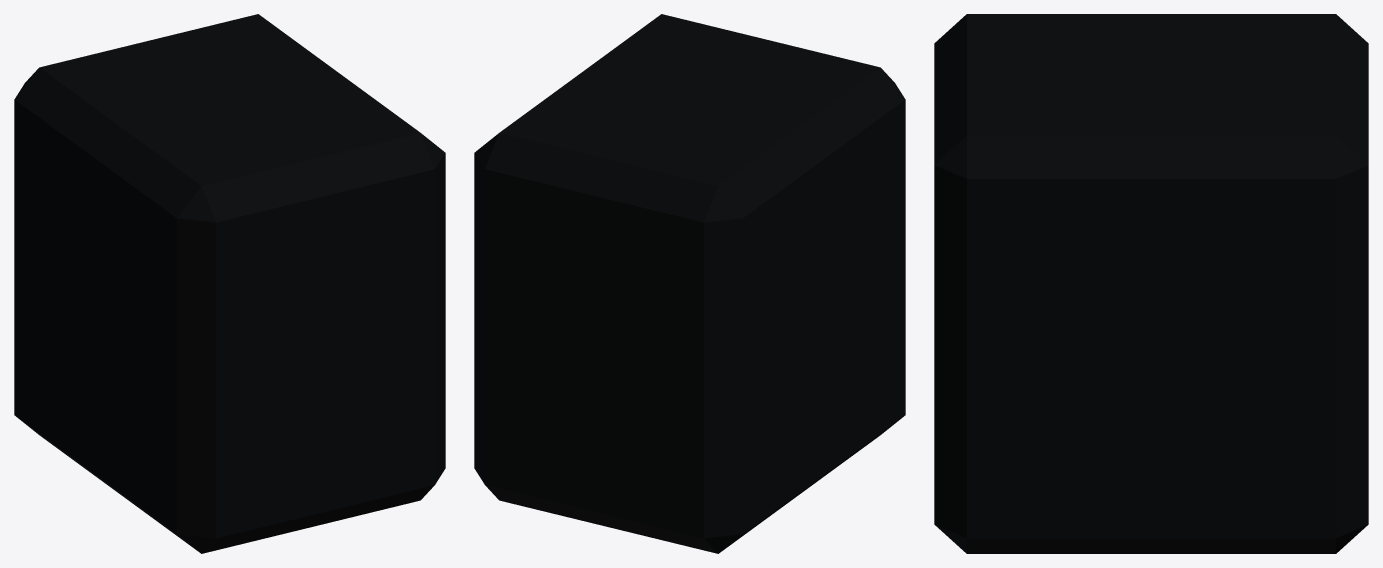
File: Minigun762__Yaw.obj
The picture shows the model from 3 angles, left to right: view 1: azimuth 30°, elevation 25°; view 2: azimuth 150°, elevation 25°; view 3: azimuth 270°, elevation 25°; orthographic projection. The views are drawn at different scales.
Parts seen in each view (by area): view 1: Mount_bearing_bridge; view 2: Mount_bearing_bridge; view 3: Mount_bearing_bridge.
Boxes of the visible parts, bbox=[...] form: Mount_bearing_bridge: bbox=[14, 14, 445, 553]; Mount_bearing_bridge: bbox=[474, 14, 905, 553]; Mount_bearing_bridge: bbox=[934, 14, 1368, 553].
Bounding box in the file's own units: 0.13 × 0.17 × 0.16.
